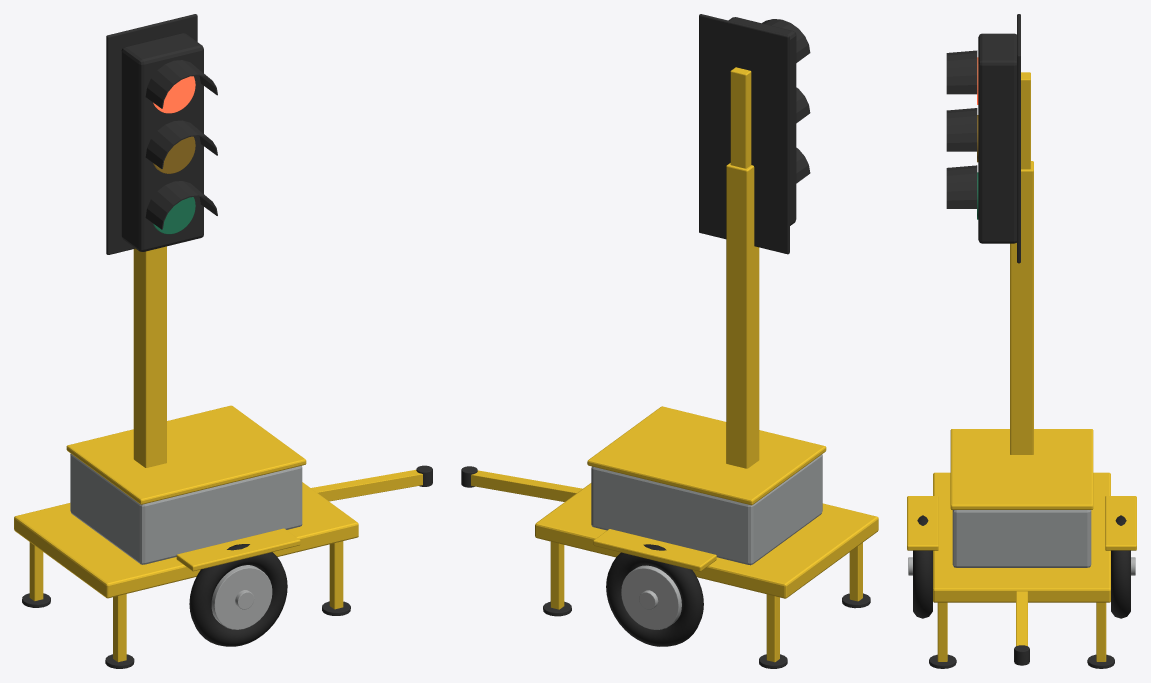
Rendered from city-temporary-traffic-signal.glb.
3 views of the same model, side by side, from view 1: azimuth 30°, elevation 25°; view 2: azimuth 150°, elevation 25°; view 3: azimuth 270°, elevation 25° (orthographic). The views are drawn at different scales.
Parts seen in each view (by area): view 1: Assembly | Yellow trailer paint, Assembly | Black signal housing, Assembly | Grey battery box, Assembly | Trailer tyre rubber, Assembly | Grey wheel rim, Assembly | Red signal lens, lit, Assembly | Amber signal lens, unlit, Assembly | Green signal lens, unlit; view 2: Assembly | Yellow trailer paint, Assembly | Black signal housing, Assembly | Grey battery box, Assembly | Trailer tyre rubber, Assembly | Grey wheel rim; view 3: Assembly | Yellow trailer paint, Assembly | Black signal housing, Assembly | Grey battery box, Assembly | Trailer tyre rubber.
Boxes of the visible parts, left/top/right/bottom form: Assembly | Yellow trailer paint: left=14, top=246, right=422, bottom=662; Assembly | Black signal housing: left=22, top=14, right=432, bottom=668; Assembly | Grey battery box: left=70, top=453, right=302, bottom=564; Assembly | Trailer tyre rubber: left=189, top=544, right=287, bottom=646; Assembly | Grey wheel rim: left=211, top=565, right=272, bottom=629; Assembly | Red signal lens, lit: left=153, top=76, right=195, bottom=113; Assembly | Amber signal lens, unlit: left=153, top=136, right=195, bottom=173; Assembly | Green signal lens, unlit: left=153, top=197, right=195, bottom=234; Assembly | Yellow trailer paint: left=471, top=67, right=878, bottom=662; Assembly | Black signal housing: left=461, top=14, right=870, bottom=668; Assembly | Grey battery box: left=591, top=454, right=822, bottom=565; Assembly | Trailer tyre rubber: left=606, top=544, right=703, bottom=646; Assembly | Grey wheel rim: left=621, top=565, right=681, bottom=629; Assembly | Yellow trailer paint: left=907, top=72, right=1136, bottom=661; Assembly | Black signal housing: left=929, top=14, right=1114, bottom=668; Assembly | Grey battery box: left=952, top=510, right=1091, bottom=567; Assembly | Trailer tyre rubber: left=913, top=515, right=1130, bottom=618.
Bounding box in the file's own units: 2.06 × 3.13 × 1.16.
